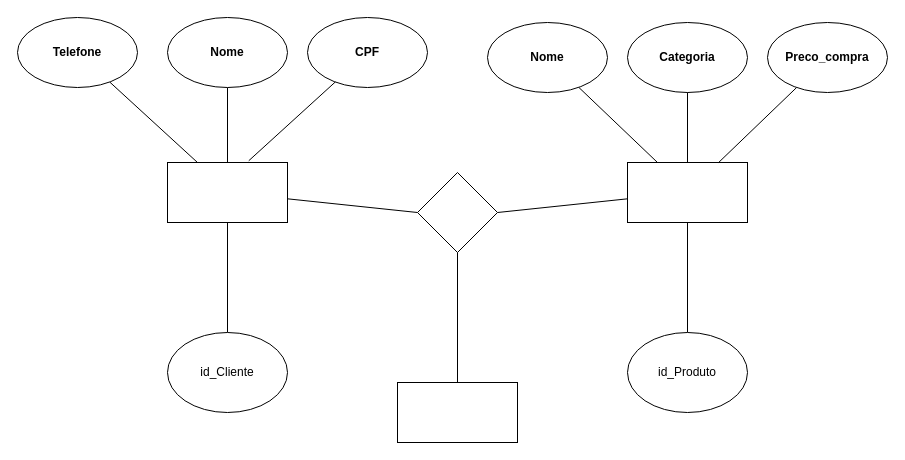
Some shapes in this 905 by 460 pixel diagram are drawn without their labels. The centre of each missing label's shape, as x and y in pixels:
"CLIENTE" belongs at (x=227, y=192).
"PRODUTO" belongs at (x=687, y=192).
